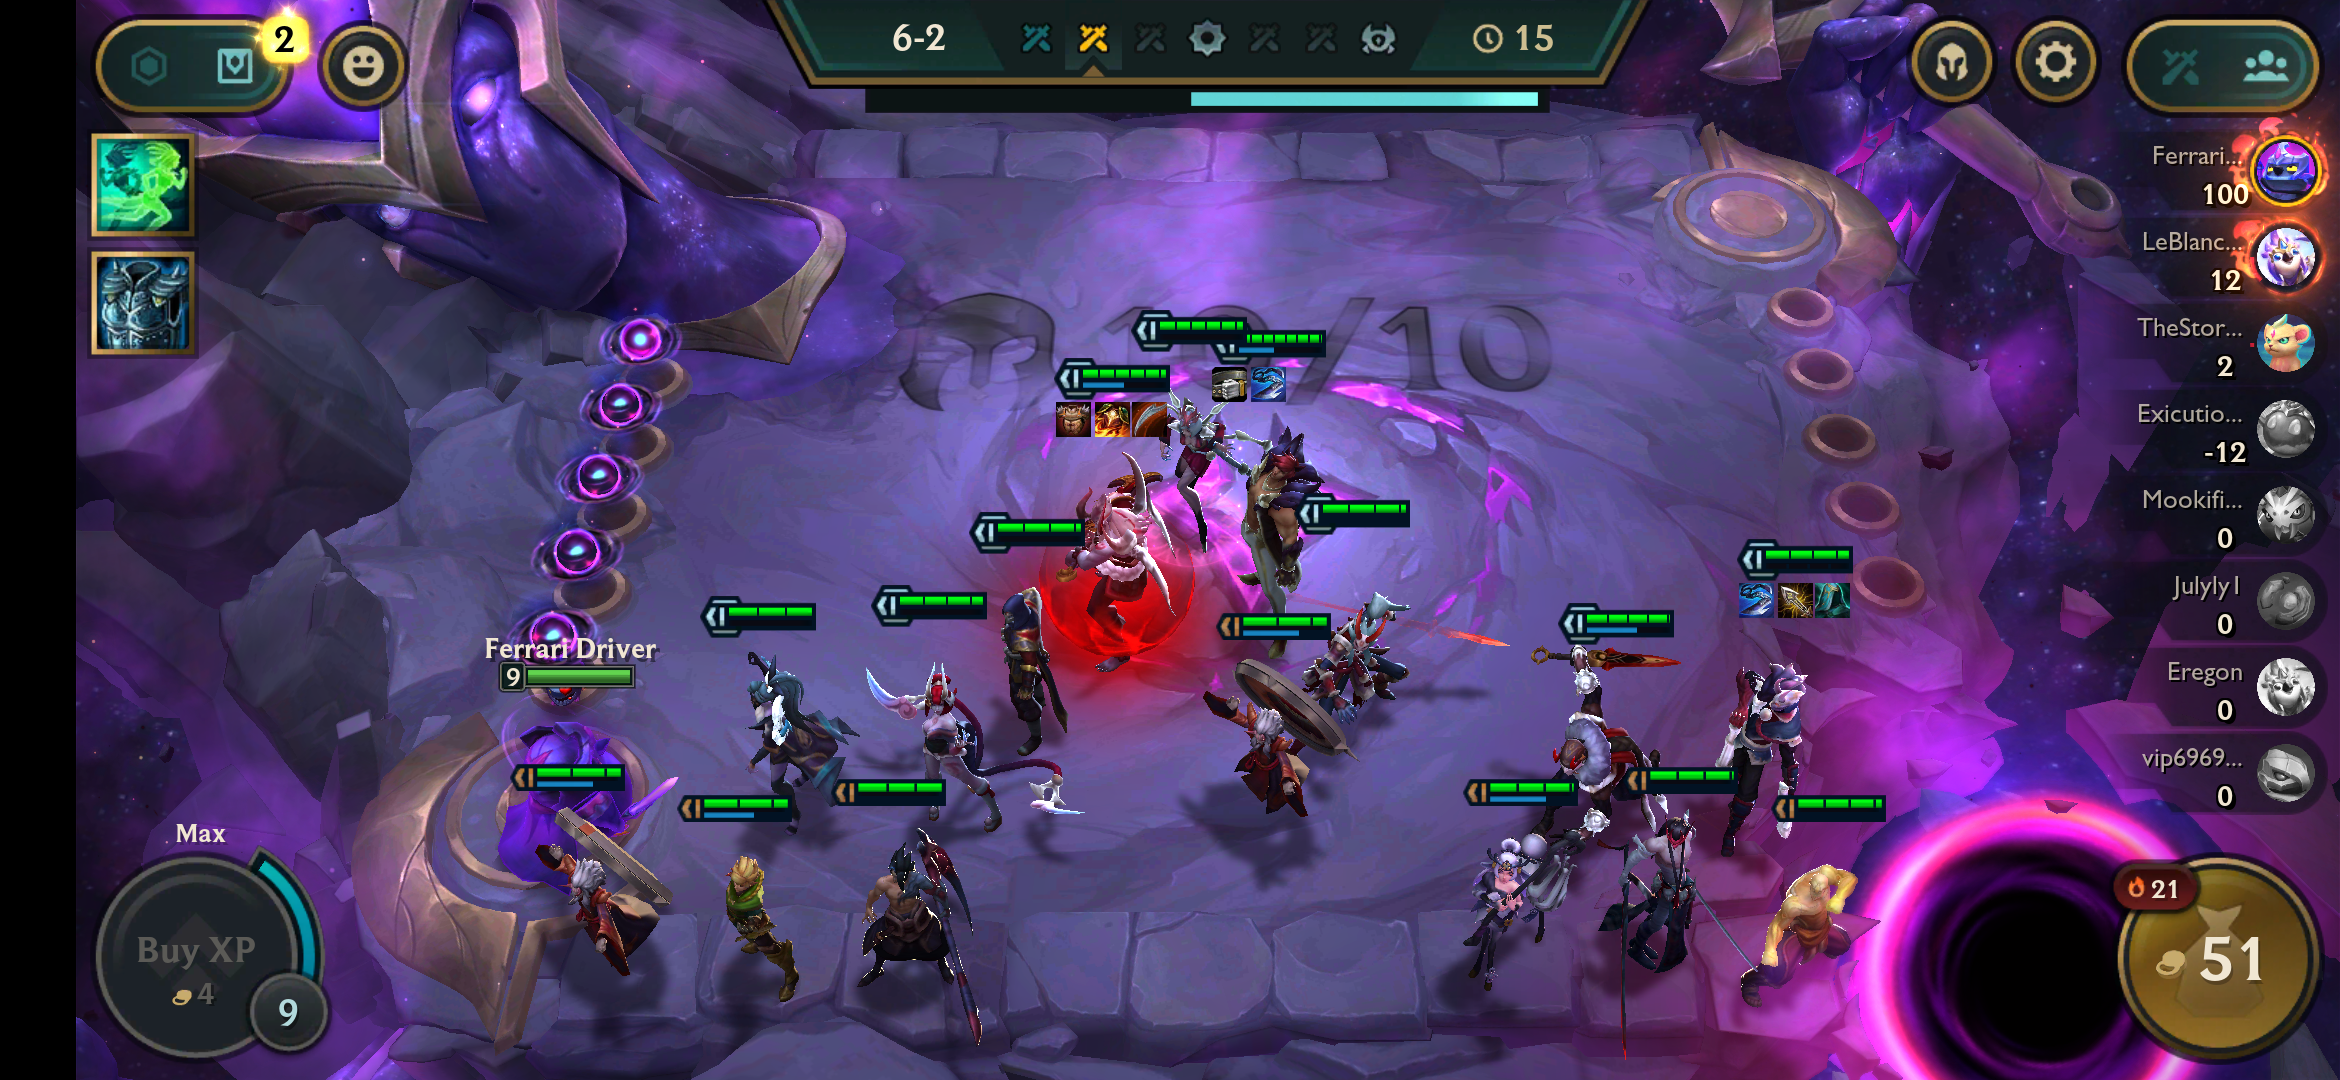1star_ezreal: (666, 783, 825, 1028)
1star_kayn: (822, 770, 998, 1046)
1star_leesin: (1725, 782, 1894, 1043)
1star_lillia: (1427, 759, 1600, 1010)
1star_yone: (1604, 755, 1777, 1070)
1star_zilean: (1180, 603, 1368, 850), (498, 752, 681, 1002)
2star_aatrox: (1042, 339, 1200, 688)
2star_elise: (1109, 292, 1264, 594)
2star_elise_chosen: (1113, 291, 1268, 592)
2star_evelynn: (855, 567, 1100, 847)
2star_jhin: (1692, 530, 1865, 867)
2star_kalista: (1245, 474, 1519, 770)
2star_pyke: (1522, 577, 1703, 882)
2star_sett: (1189, 309, 1346, 671)
2star_twistedfate: (951, 491, 1107, 797)
2star_vayne: (686, 580, 888, 847)
item_belt: (1207, 361, 1251, 403)
item_bramble: (1052, 398, 1095, 442)
item_dclaw: (1130, 395, 1171, 439)
item_fon: (93, 252, 193, 354)
item_giantslayer: (1737, 577, 1780, 621), (1248, 362, 1289, 406)
item_ie: (1774, 579, 1818, 621)
item_neeko: (96, 134, 193, 234)
item_quicksilver: (1813, 577, 1856, 621)
item_sunfire: (1092, 398, 1136, 440)
